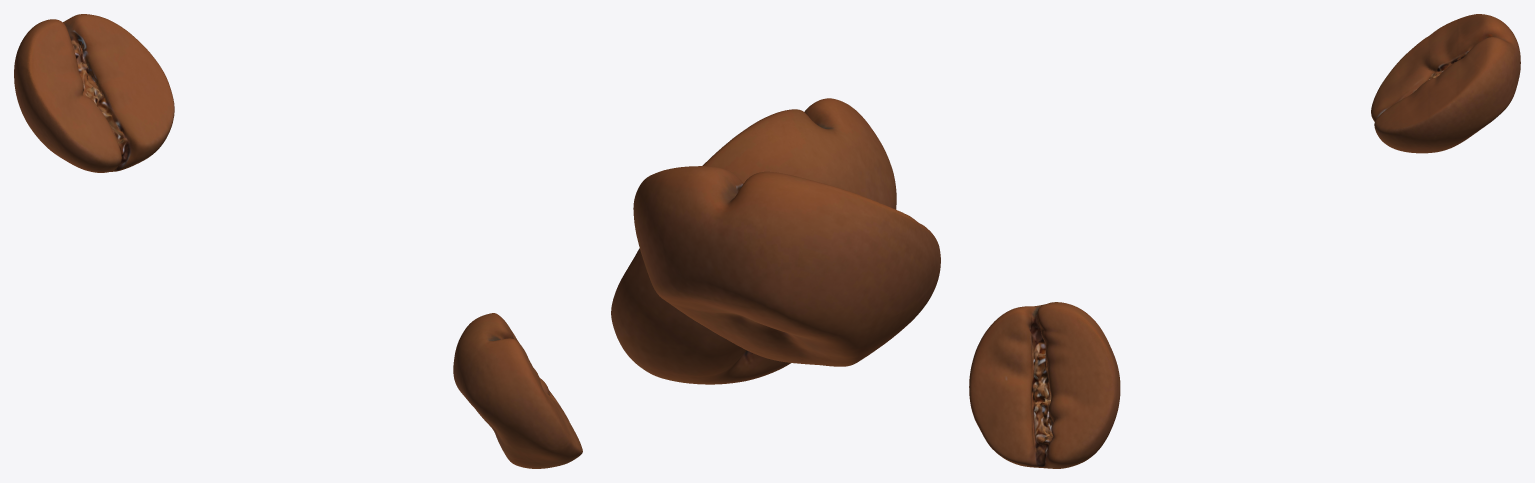
The model's file is coffee beans falling mid-air.glb.
3 views of the same model, side by side, from view 1: azimuth 30°, elevation 25°; view 2: azimuth 150°, elevation 25°; view 3: azimuth 270°, elevation 25° (orthographic). The views are drawn at different scales.
Visible parts, largest first — view 1: tripo_node_eded5f6d-0bb3-4140-9195-28d0cf69a82a; view 2: tripo_node_eded5f6d-0bb3-4140-9195-28d0cf69a82a; view 3: tripo_node_eded5f6d-0bb3-4140-9195-28d0cf69a82a.
Part boxes in pixels (<box>): tripo_node_eded5f6d-0bb3-4140-9195-28d0cf69a82a: <box>14,14,582,468</box>; tripo_node_eded5f6d-0bb3-4140-9195-28d0cf69a82a: <box>611,98,940,384</box>; tripo_node_eded5f6d-0bb3-4140-9195-28d0cf69a82a: <box>969,14,1520,468</box>.
Size of the model in its own units: 0.698 by 0.6437 by 1.
1 material, 1 textured.
